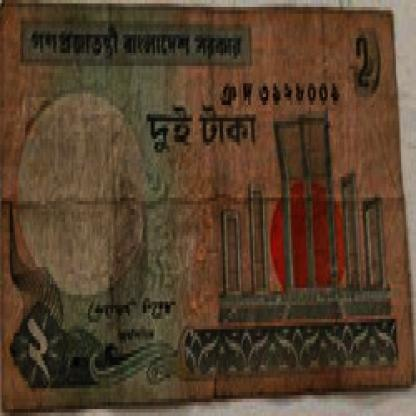two taka: (146, 108, 263, 152), (15, 281, 60, 388)
